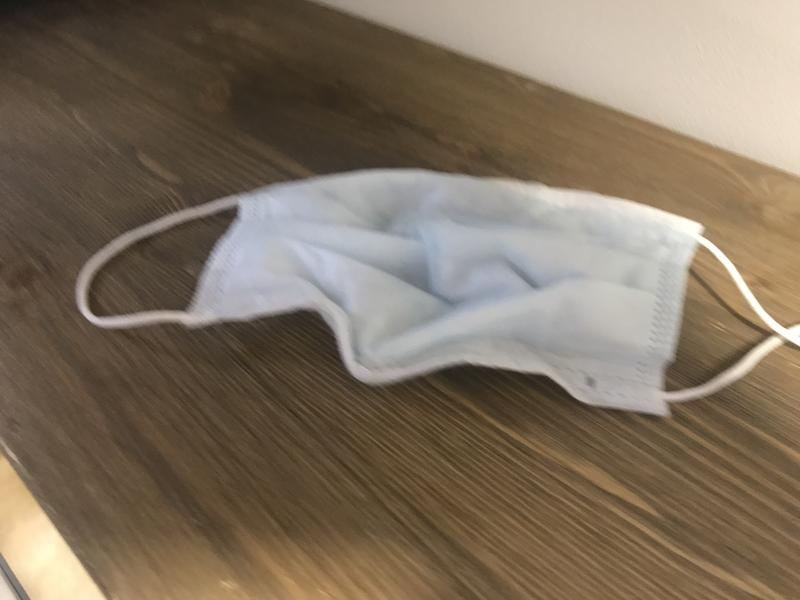medical_mask: (76, 168, 800, 417)
